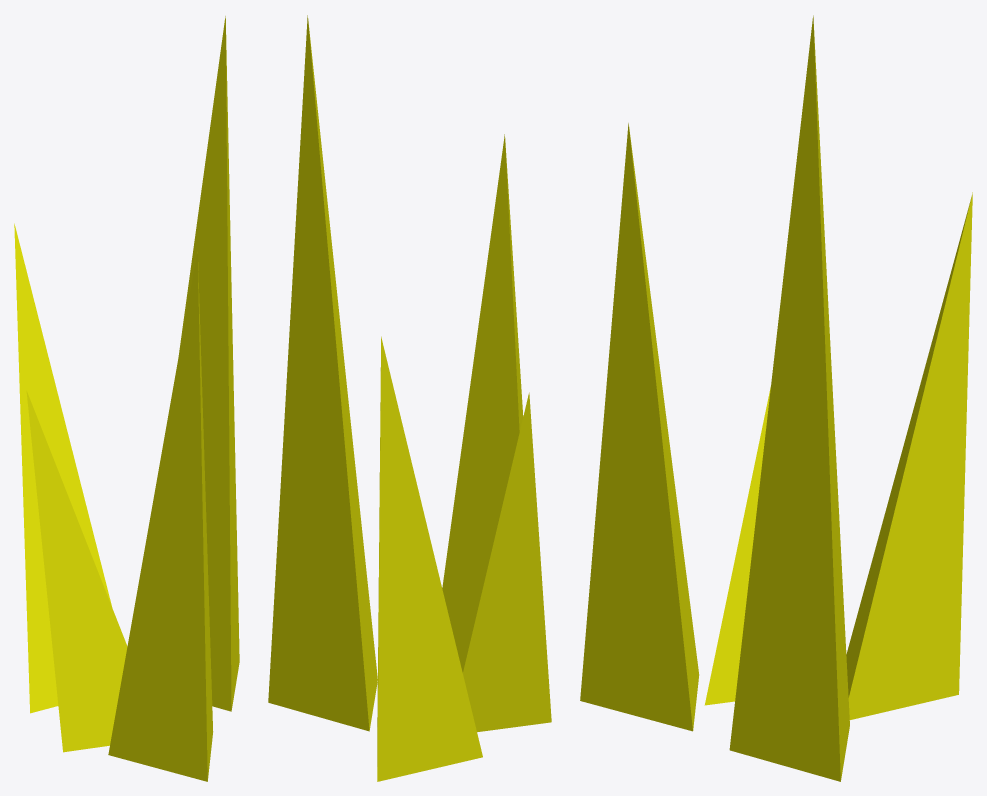
The model's file is grass03.glb.
3 views of the same model, side by side, from view 1: azimuth 30°, elevation 25°; view 2: azimuth 150°, elevation 25°; view 3: azimuth 270°, elevation 25° (orthographic). The views are drawn at different scales.
Visible parts, largest first — view 1: grass03; view 2: grass03; view 3: grass03.
Boxes of the visible parts, <box> form: grass03: <box>14,16,239,781</box>; grass03: <box>268,15,551,781</box>; grass03: <box>580,15,972,781</box>.
Size of the model in its own units: 0.7436 by 2.03 by 0.9562.
1 material, 1 textured.
